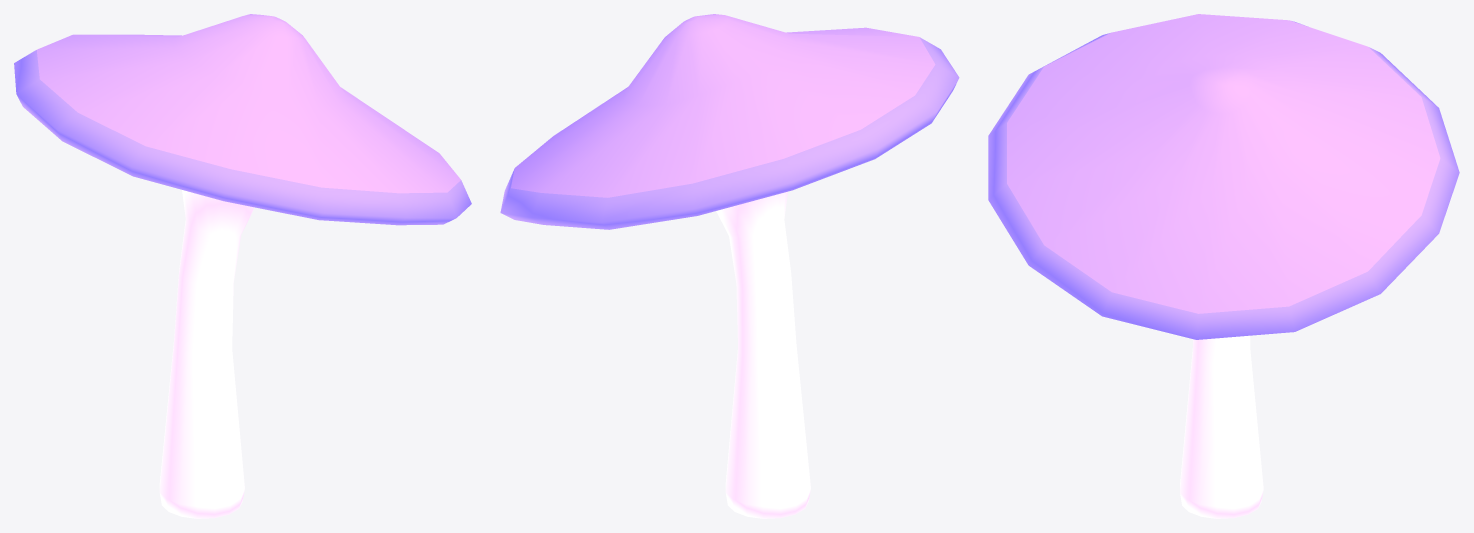
Rendered from cogumelo_M2.fbx.
3 views of the same model, side by side, from view 1: azimuth 30°, elevation 25°; view 2: azimuth 150°, elevation 25°; view 3: azimuth 270°, elevation 25° (orthographic).
Parts seen in each view (by area): view 1: cogu_M2; view 2: cogu_M2; view 3: cogu_M2.
Part boxes in pixels (x1=…): cogu_M2: x1=14, y1=14, x2=471, y2=518; cogu_M2: x1=500, y1=14, x2=959, y2=518; cogu_M2: x1=988, y1=14, x2=1459, y2=518.
Bounding box in the file's own units: 506 × 538 × 575.
